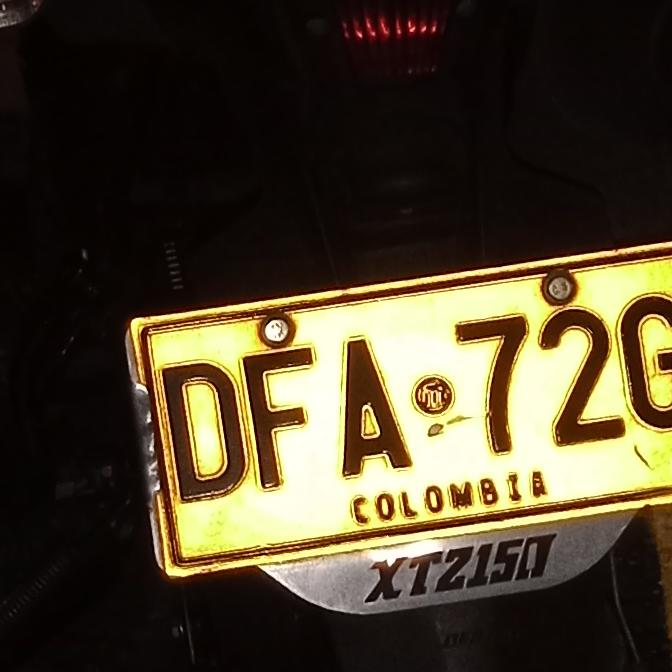plates: (121, 246, 672, 594)
